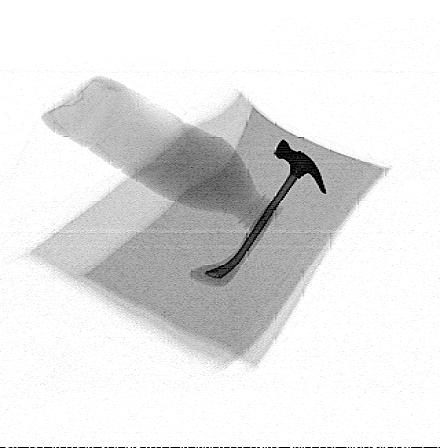Hammer: (189, 138, 327, 288)
